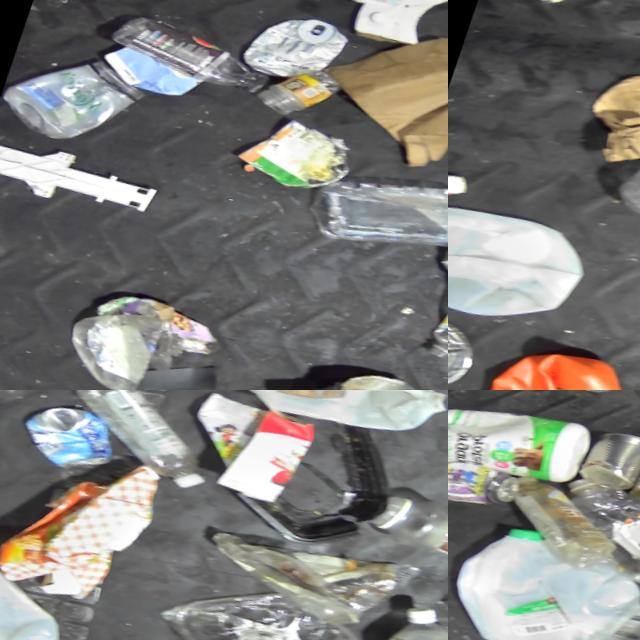can: (248, 9, 360, 96), (26, 400, 137, 485), (448, 447, 529, 521), (577, 425, 640, 499)
milk_jug: (448, 187, 606, 345), (448, 513, 640, 640), (243, 390, 448, 459), (0, 517, 100, 640)
non_white_jug: (466, 339, 640, 390)
plastic_bottle: (44, 390, 252, 507), (566, 390, 631, 405)
